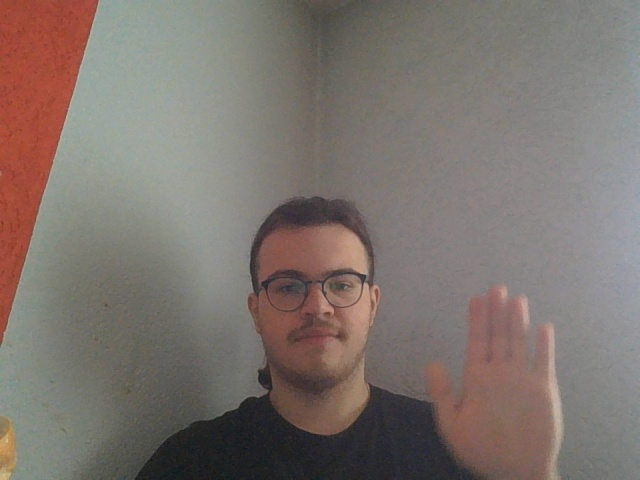Hello: (422, 283, 565, 479)
